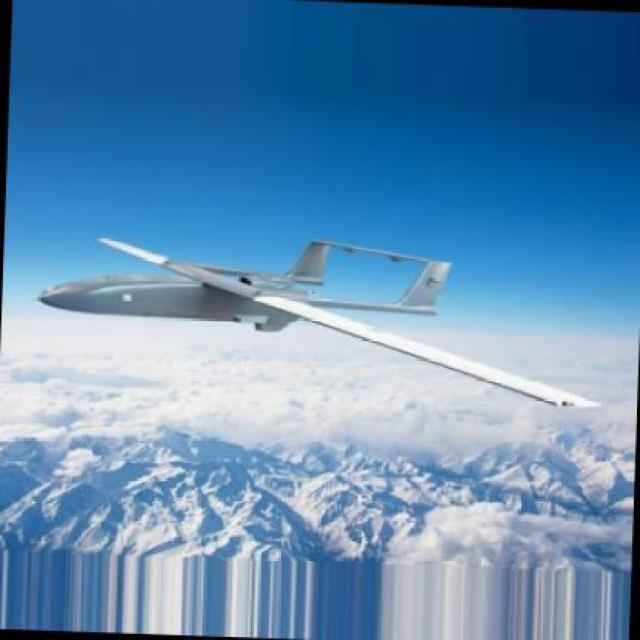iha: (33, 225, 610, 419)
